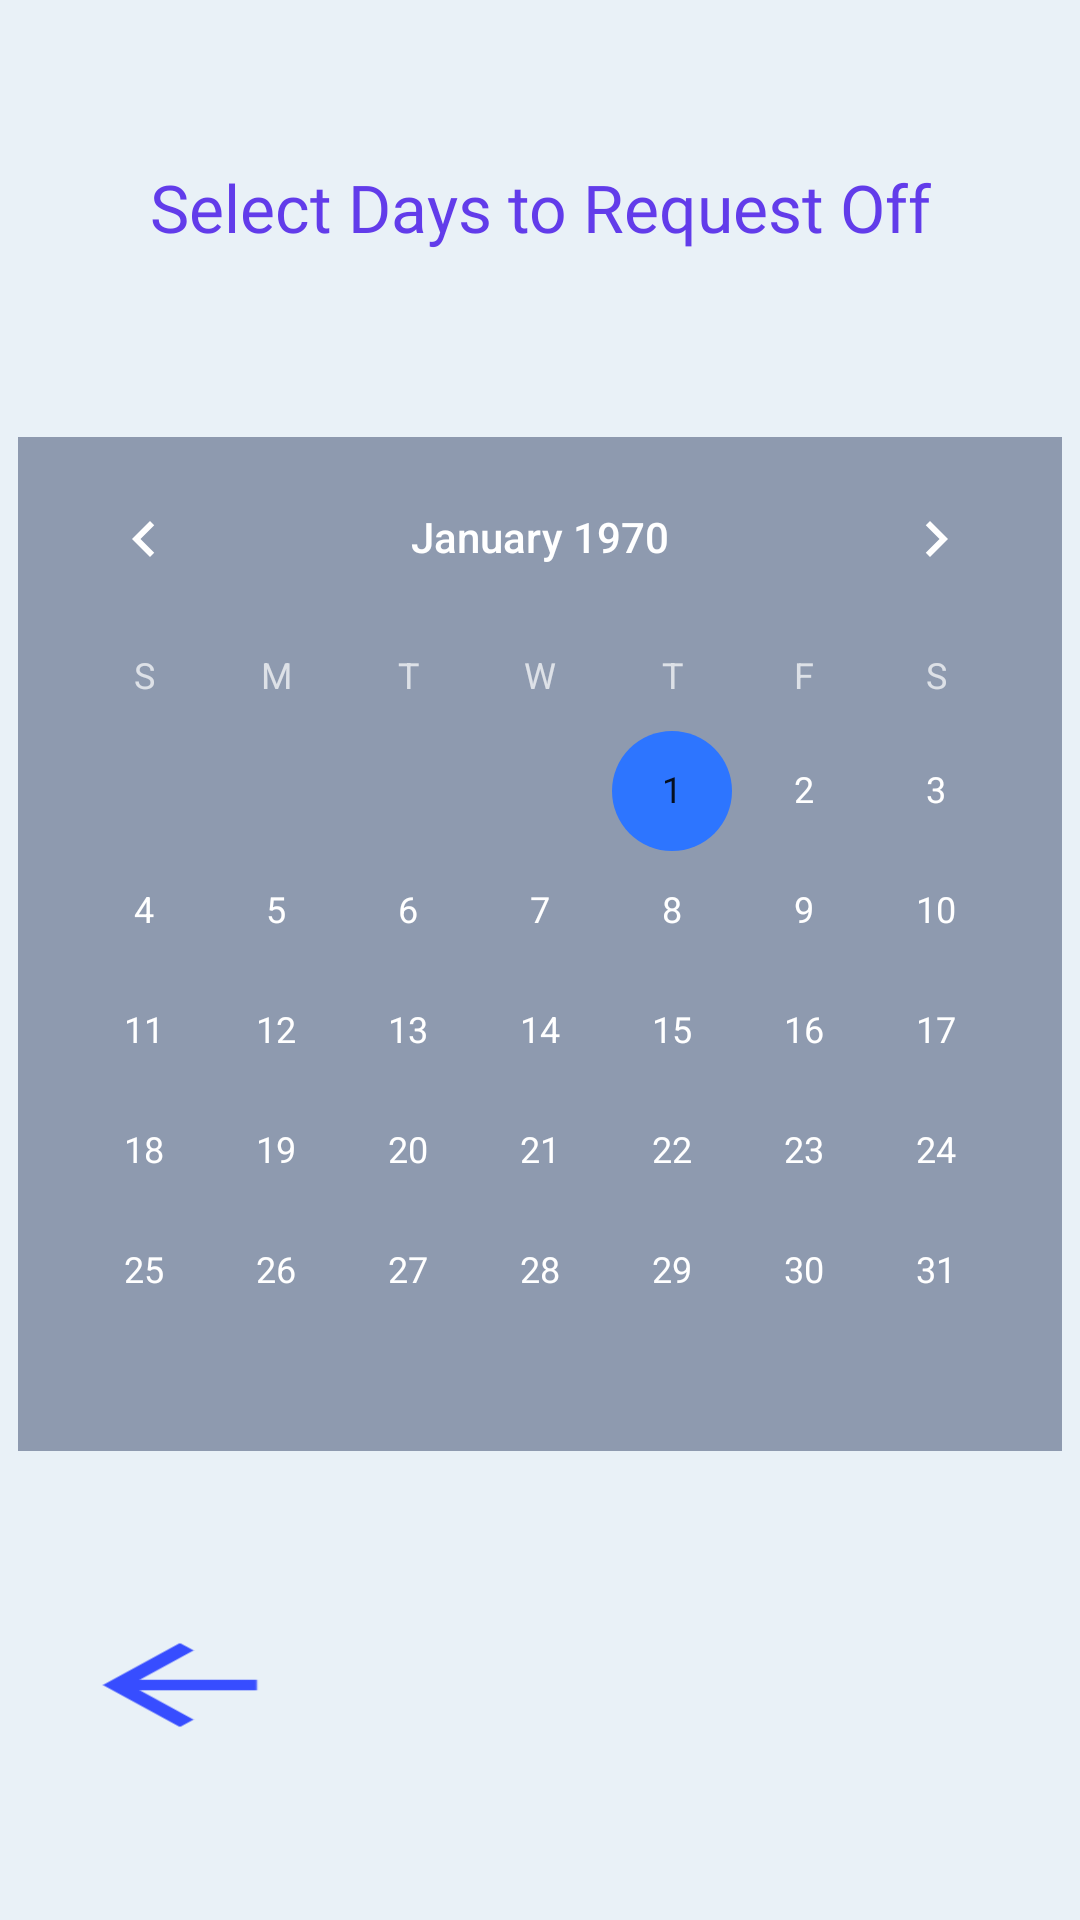

Where to tap for icons on this 1080x1920 app screen, as (x=x, y=y):
back: (x=180, y=1685)
